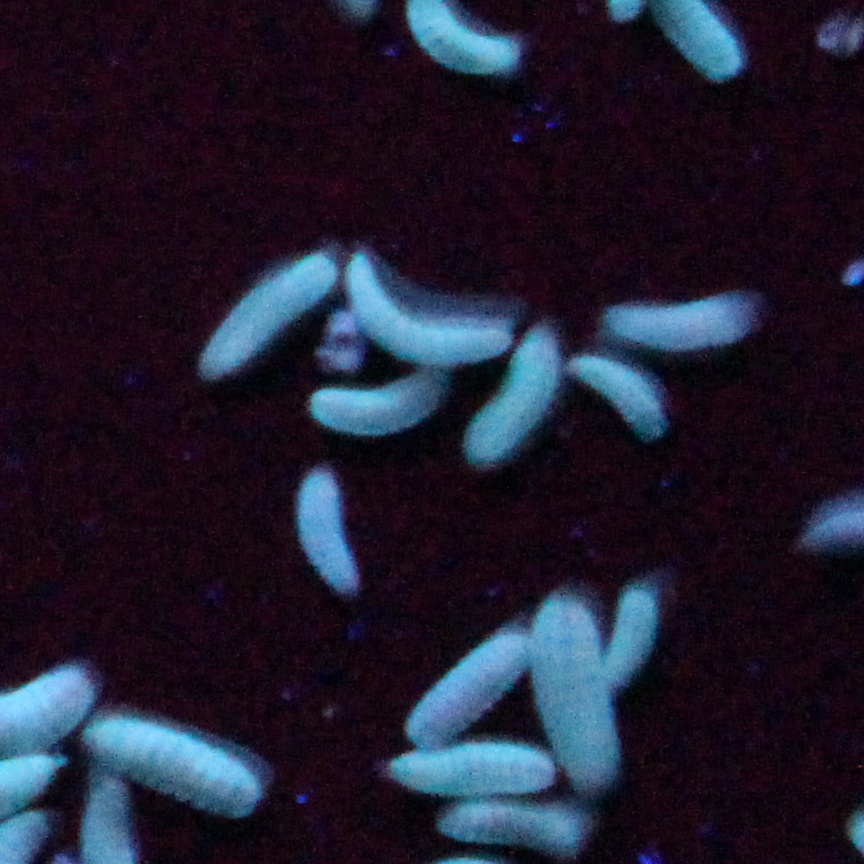larve: (200, 252, 339, 380), (82, 717, 260, 815), (347, 256, 508, 363), (532, 600, 618, 785), (406, 634, 529, 748), (467, 331, 558, 465), (309, 374, 442, 436), (566, 355, 663, 440), (390, 744, 553, 793), (609, 298, 752, 352), (440, 803, 583, 855), (299, 473, 358, 593), (599, 592, 655, 690)
